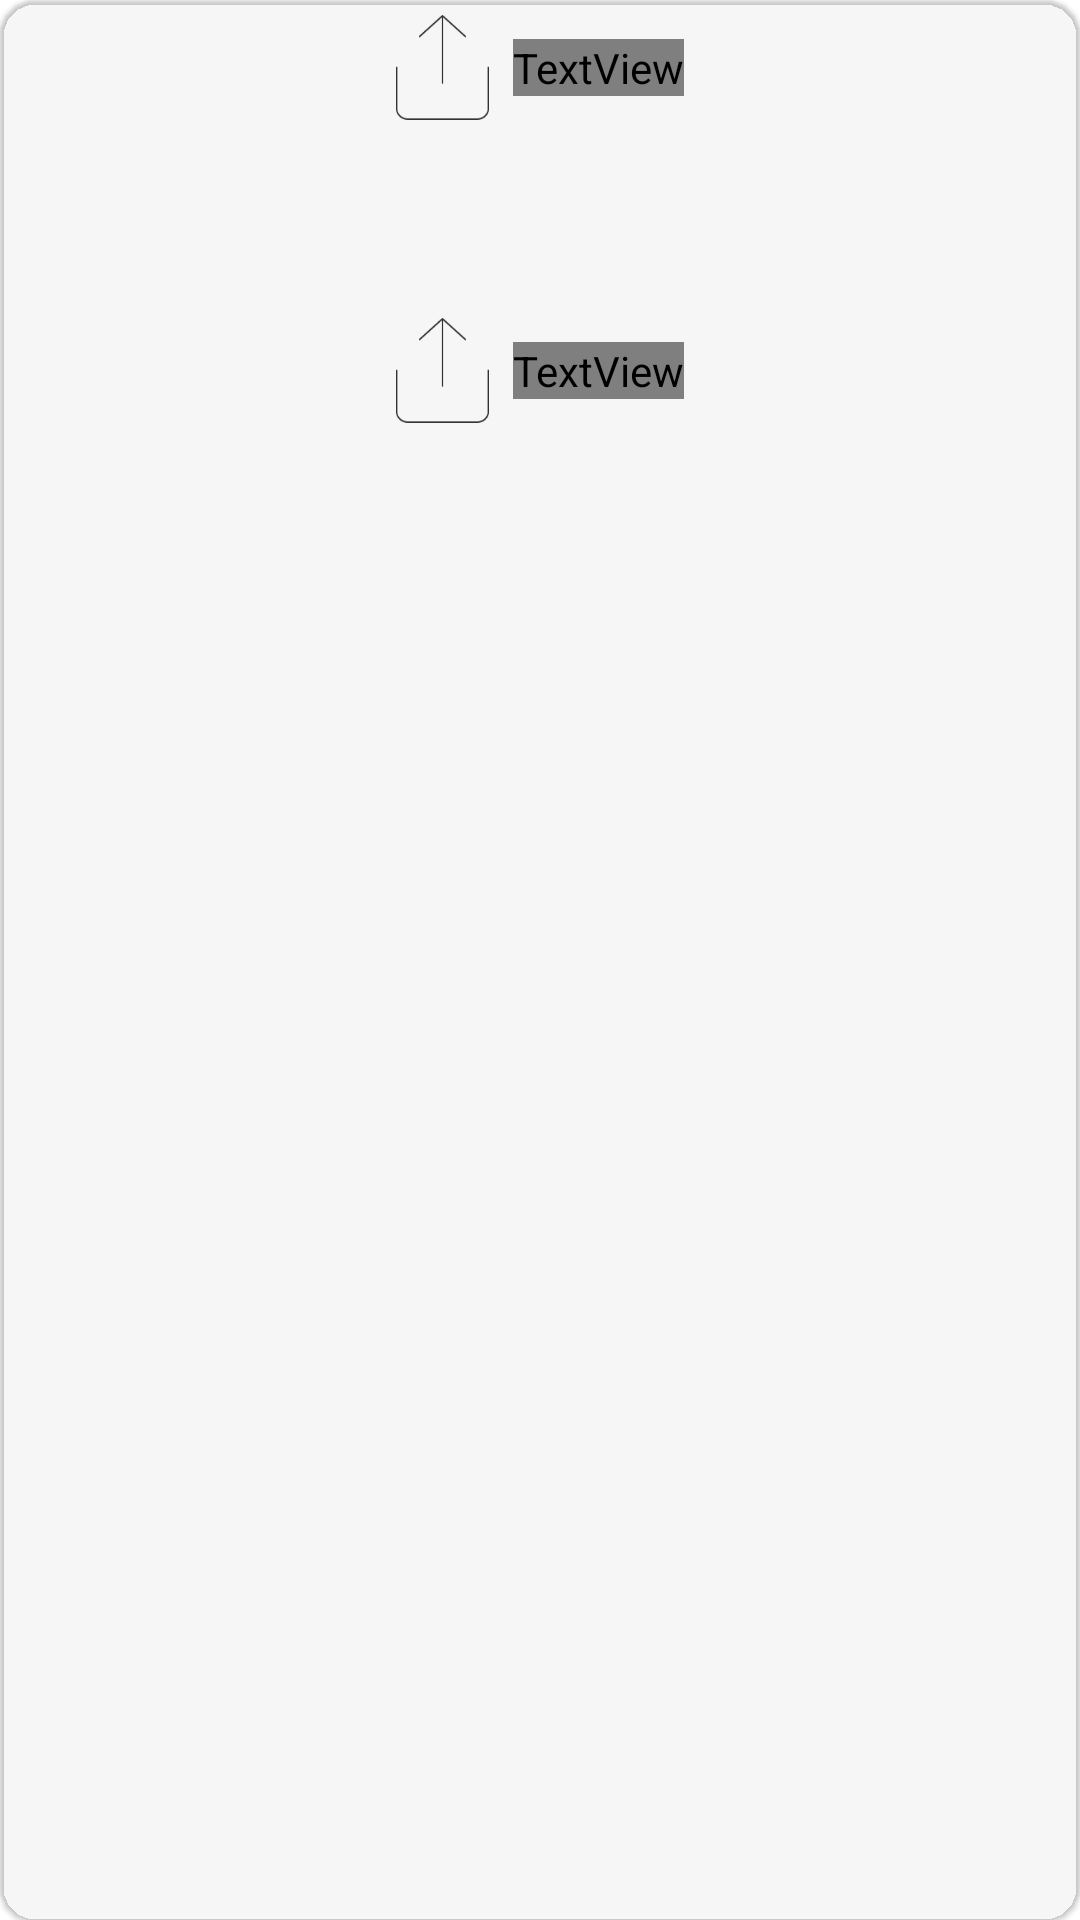

Icons on this 1080 × 1920 Android screen, each with the point to tap as (x=x, y=y):
share: (x=442, y=67), (x=442, y=370)
